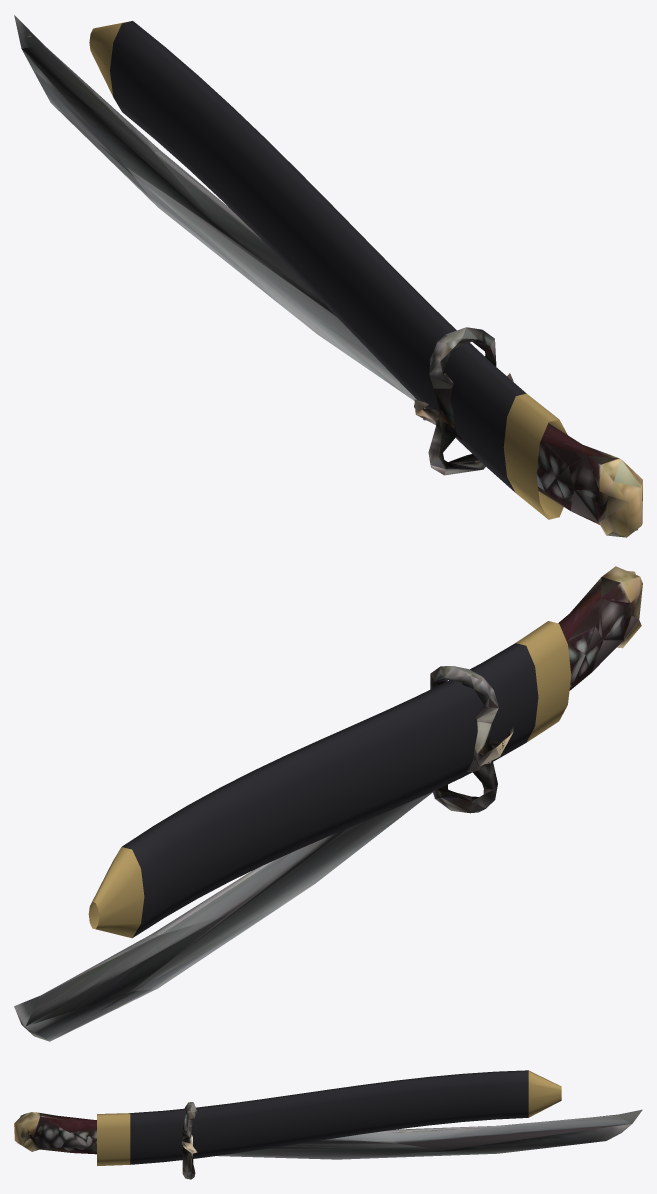
File: katana.lod1.glb
3 views of the same model, one above another, from view 1: azimuth 30°, elevation 25°; view 2: azimuth 150°, elevation 25°; view 3: azimuth 270°, elevation 25° (orthographic). The views are drawn at different scales.
Parts seen in each view (by area): view 1: sheath, katana; view 2: sheath, katana; view 3: sheath, katana.
Part boxes in pixels (x1,y1,x2,y2): sheath: (89, 21, 567, 519); katana: (14, 15, 642, 537); sheath: (88, 621, 571, 938); katana: (14, 566, 642, 1041); sheath: (97, 1070, 561, 1165); katana: (14, 1102, 642, 1179).
Bounding box in the file's own units: 0.0956 × 0.1921 × 1.04.
Materials: 5 (3 with a texture image).
